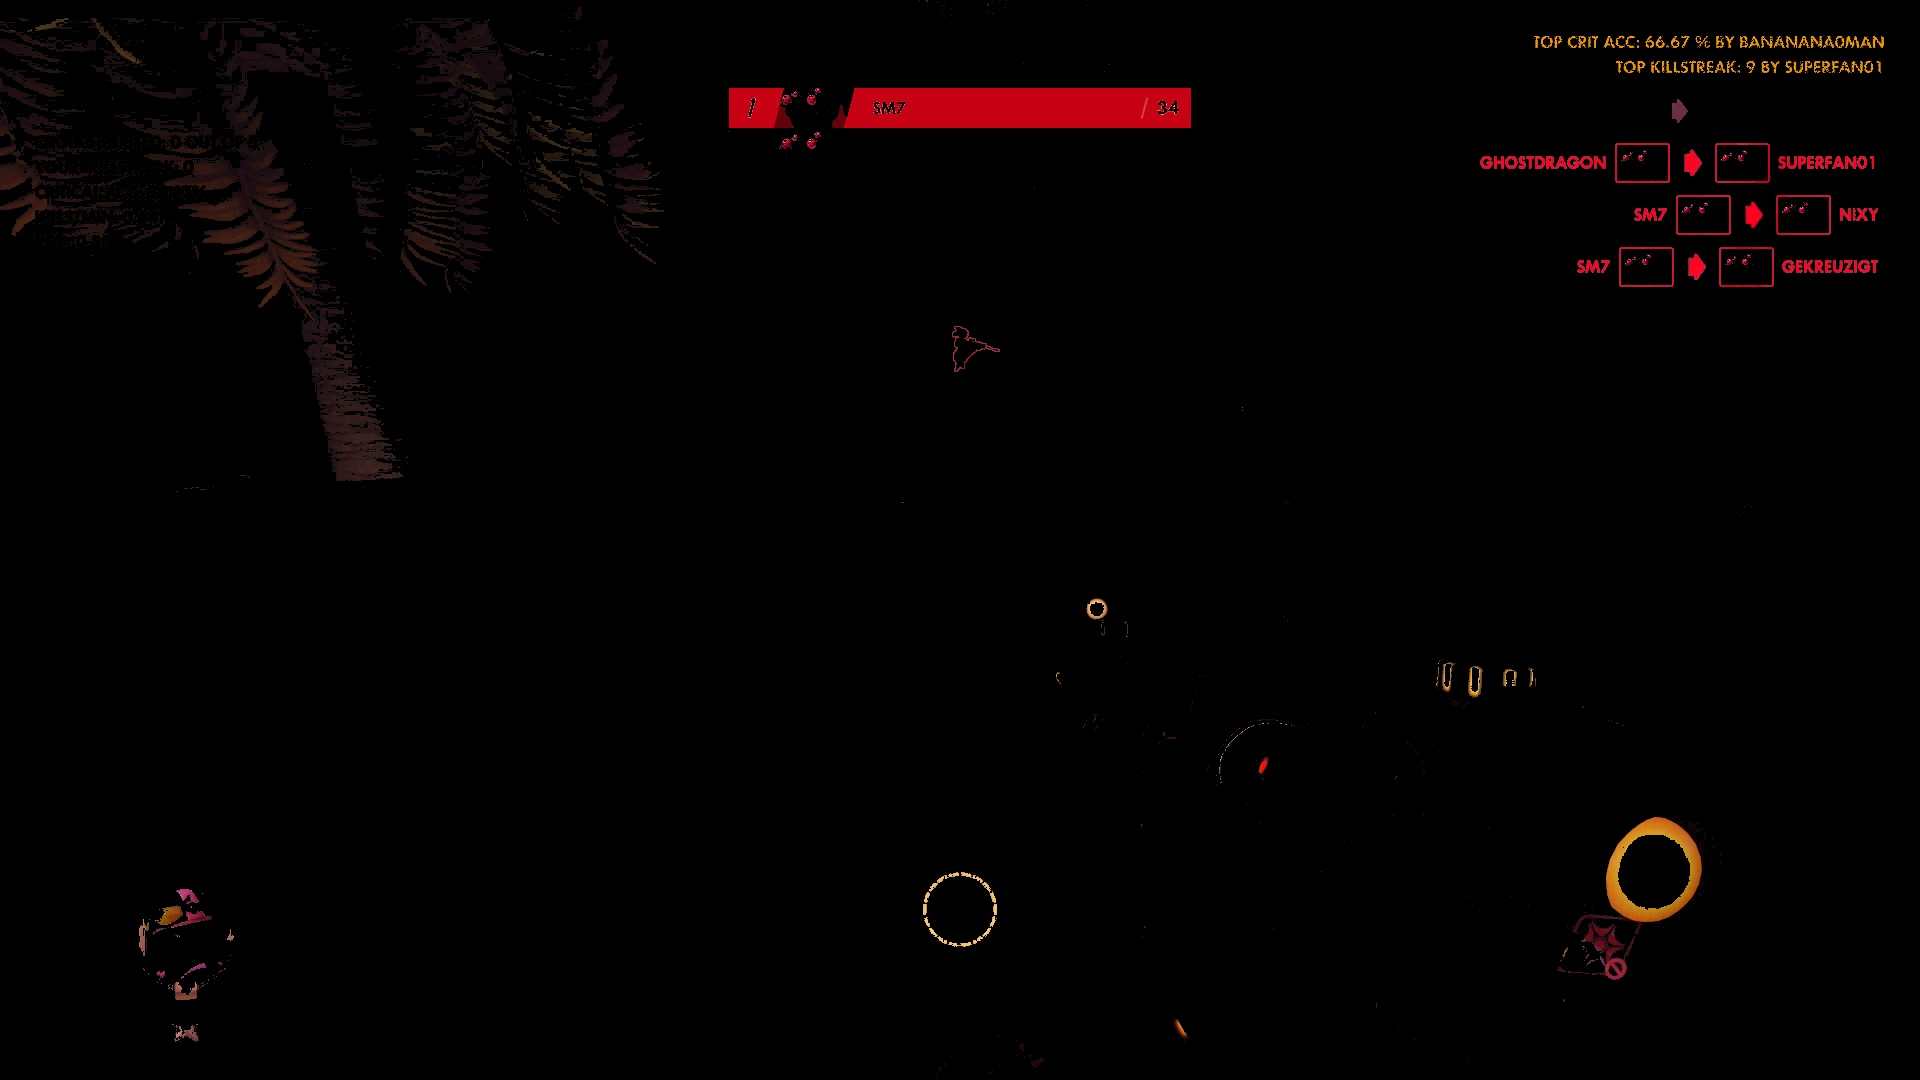widowmaker: (952, 326, 990, 375)
